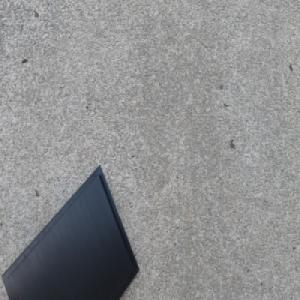PlasticPart: (1, 162, 140, 300)
